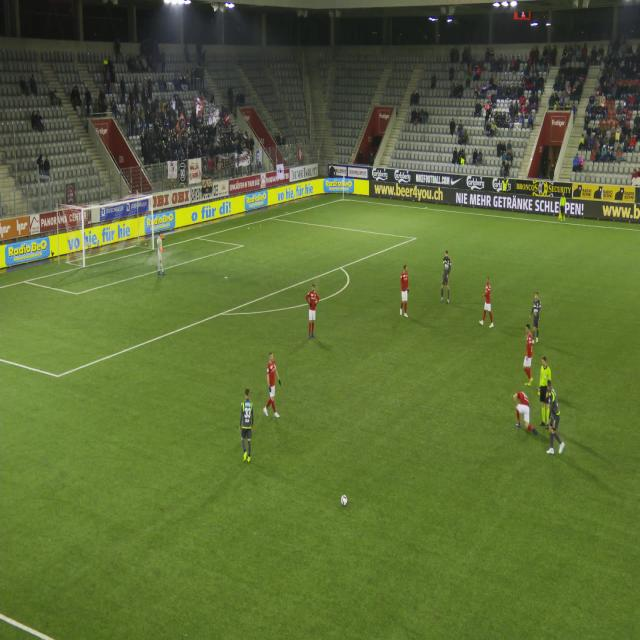Ball: (338, 488, 350, 518)
Player: (234, 384, 259, 466), (544, 375, 567, 463), (393, 257, 418, 327), (263, 348, 285, 426), (300, 278, 326, 344), (513, 384, 538, 446), (518, 322, 540, 384), (438, 240, 456, 312), (478, 272, 497, 337), (153, 225, 170, 284), (528, 286, 546, 326)
Referee: (538, 353, 556, 435), (555, 188, 569, 227)
